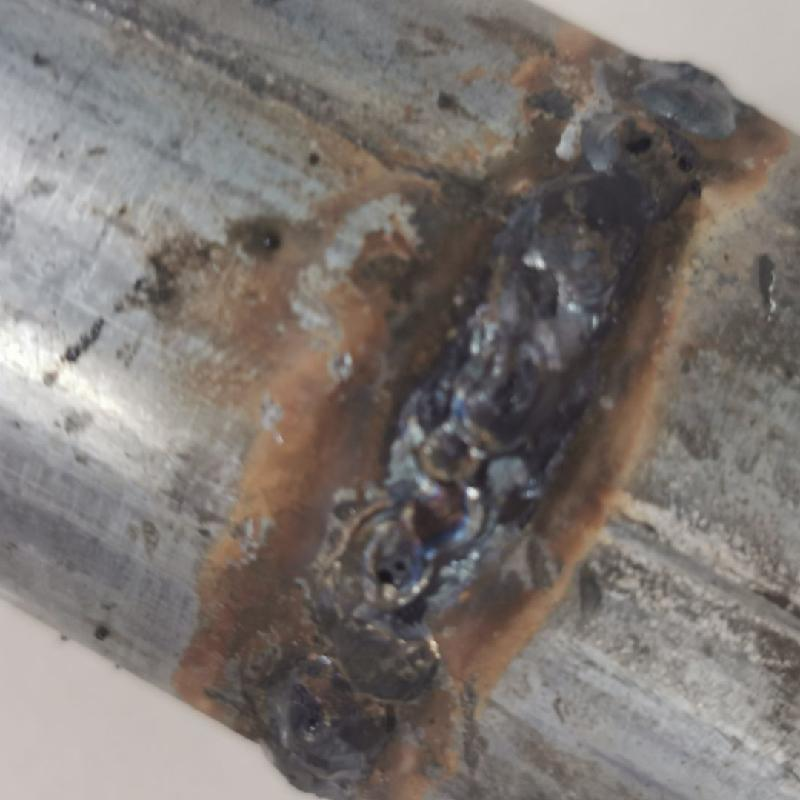Surface_pores: (611, 110, 706, 186), (372, 546, 417, 589), (290, 703, 330, 740)
crater: (325, 350, 544, 603)
wrong_size: (522, 10, 742, 312), (209, 595, 440, 793)
